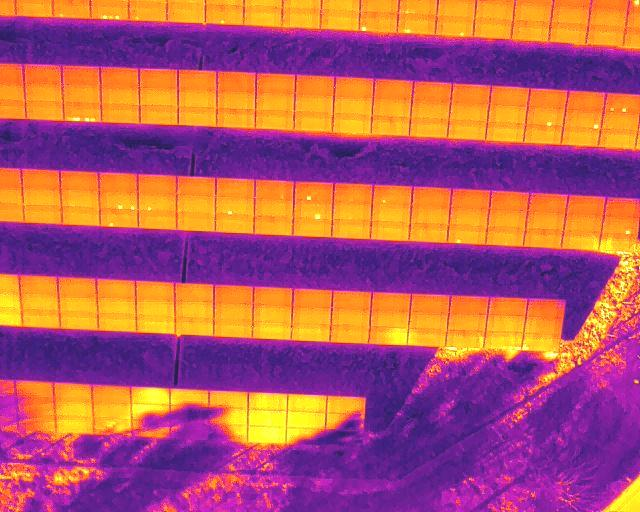Cell: (447, 224, 487, 245), (437, 15, 475, 37), (396, 13, 434, 34), (357, 11, 396, 31), (293, 183, 333, 202), (206, 4, 243, 24), (374, 185, 410, 205), (526, 107, 566, 125), (564, 111, 603, 129), (215, 197, 254, 215), (294, 200, 331, 218), (129, 3, 168, 20), (603, 216, 638, 234), (256, 181, 293, 198), (100, 211, 137, 227), (53, 2, 92, 17), (139, 195, 175, 211)
Cell-Multi: (99, 191, 140, 210), (64, 103, 102, 121), (603, 94, 639, 113), (89, 3, 128, 19), (485, 332, 521, 349)
No-Anomaly: (585, 23, 626, 45), (489, 85, 530, 107), (242, 5, 283, 26), (214, 317, 254, 338), (451, 83, 491, 104), (320, 9, 360, 30), (407, 118, 451, 137), (410, 99, 451, 119), (485, 123, 528, 142), (588, 4, 628, 24), (61, 65, 101, 85), (139, 69, 179, 89), (174, 316, 213, 336), (332, 114, 371, 134), (176, 106, 217, 125), (23, 102, 63, 121), (449, 102, 489, 121), (293, 288, 333, 307), (410, 293, 450, 312), (413, 82, 453, 101), (62, 83, 102, 102), (282, 7, 320, 27), (488, 105, 528, 124), (215, 177, 255, 196), (333, 184, 371, 204), (295, 75, 335, 94), (252, 320, 291, 339), (333, 96, 372, 115), (551, 3, 590, 22), (139, 105, 178, 124), (57, 294, 98, 312), (251, 287, 292, 305), (292, 218, 330, 237), (332, 220, 370, 239), (372, 221, 410, 240), (548, 23, 586, 42), (412, 188, 450, 207), (101, 67, 139, 86), (179, 70, 217, 89), (136, 281, 176, 299), (253, 110, 293, 128), (450, 190, 490, 208), (293, 113, 333, 131), (178, 176, 214, 196), (21, 188, 61, 206), (528, 194, 568, 212), (369, 118, 411, 135), (473, 19, 510, 38), (490, 191, 527, 210), (372, 98, 411, 116), (489, 298, 528, 316), (527, 298, 566, 316), (24, 84, 63, 102), (101, 86, 140, 104), (138, 175, 177, 193), (98, 172, 137, 190), (563, 213, 602, 231), (256, 74, 295, 92), (217, 72, 256, 90), (217, 108, 256, 126), (100, 104, 139, 122), (524, 315, 562, 333), (450, 296, 488, 314), (20, 293, 58, 311), (487, 228, 525, 246), (166, 4, 204, 22), (448, 120, 486, 138), (568, 196, 606, 214), (61, 207, 99, 225), (487, 210, 525, 228), (174, 300, 214, 317), (294, 96, 334, 113), (332, 203, 372, 220), (23, 65, 63, 82), (512, 21, 549, 39), (529, 90, 566, 108), (374, 80, 411, 98), (23, 205, 60, 223), (138, 211, 175, 229), (486, 315, 525, 332), (330, 326, 369, 343), (254, 217, 293, 234), (256, 93, 295, 110), (136, 315, 175, 332), (139, 88, 178, 105), (524, 212, 563, 229), (214, 216, 253, 233), (334, 79, 373, 96), (19, 275, 57, 292), (97, 278, 135, 295), (410, 224, 448, 241), (170, 388, 208, 405), (93, 386, 131, 403), (407, 328, 445, 345), (331, 309, 369, 326), (408, 311, 446, 328), (55, 383, 93, 400), (178, 90, 216, 107), (22, 170, 60, 187), (475, 0, 513, 17), (288, 395, 328, 411), (371, 293, 411, 309), (20, 312, 60, 328), (216, 91, 256, 107), (527, 230, 562, 248), (370, 310, 407, 327), (213, 286, 250, 303), (514, 3, 551, 20), (600, 113, 637, 130), (255, 200, 292, 217), (58, 277, 97, 293), (130, 387, 169, 403), (368, 326, 407, 342), (248, 393, 287, 409), (562, 129, 601, 145), (177, 197, 216, 213), (410, 207, 449, 223), (252, 306, 293, 321), (62, 189, 98, 206), (61, 170, 97, 187), (292, 325, 330, 341), (598, 131, 636, 147), (525, 127, 563, 143), (16, 0, 54, 16), (135, 299, 175, 314), (247, 410, 287, 425), (570, 92, 603, 110), (606, 197, 639, 215), (175, 284, 212, 300), (288, 412, 325, 428), (372, 205, 409, 221), (327, 396, 364, 412), (214, 303, 253, 318), (247, 426, 286, 441), (294, 308, 330, 324), (334, 292, 370, 308), (562, 230, 598, 246), (93, 402, 129, 418), (97, 297, 135, 312), (209, 392, 247, 407), (450, 209, 488, 224), (55, 401, 93, 416), (99, 314, 136, 329), (448, 315, 485, 330), (177, 215, 213, 230), (59, 313, 97, 327), (58, 417, 91, 433), (438, 0, 475, 14)
Shadowing: (286, 425, 326, 445), (208, 408, 248, 426), (16, 381, 55, 399), (131, 403, 171, 420), (170, 421, 210, 438), (326, 412, 363, 430), (210, 423, 247, 441), (169, 405, 208, 422), (93, 418, 132, 435), (131, 420, 170, 437), (17, 399, 54, 415), (20, 416, 56, 430)
Unclassified: (445, 330, 484, 348), (522, 332, 560, 350)
